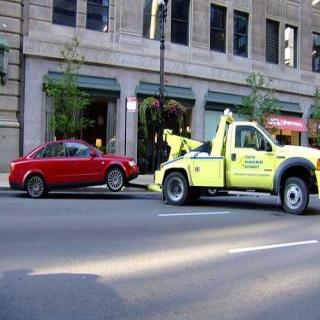Towing_truck: (153, 107, 319, 216)
